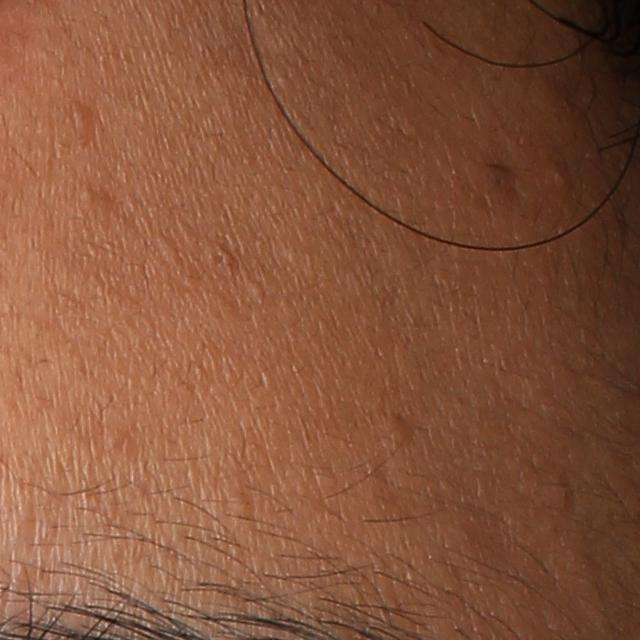comedo: (382, 415, 416, 451), (223, 491, 251, 515), (72, 105, 96, 131), (246, 276, 265, 305), (75, 183, 100, 205)
